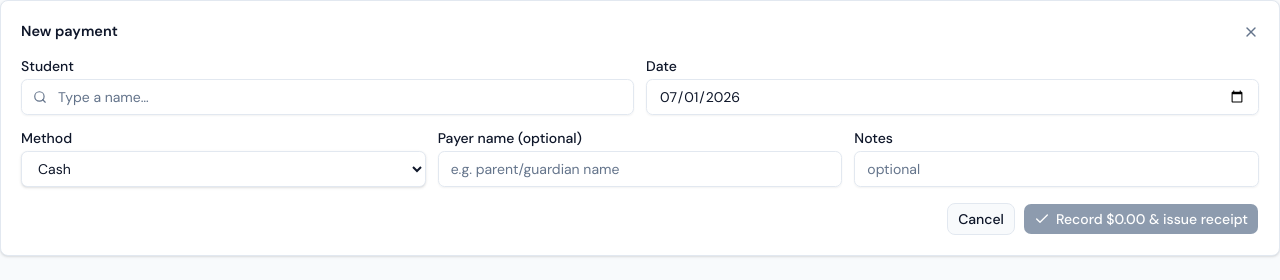
Test: NewPaymentForm — student picker › typing a name filters the dropdown to matching students
This screenshot has width=1280, height=280.
In the field labelled "Student": (328, 97) [21, 79, 634, 115], type "Tendai"
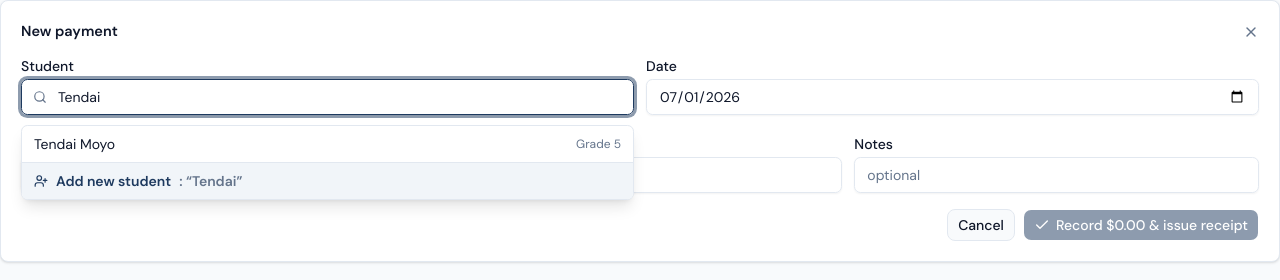
Check: the button "Tendai Moyo Grade 5" is shown, box [22, 126, 633, 162]
Check: the button "Tariro Ndlovu" is gone
